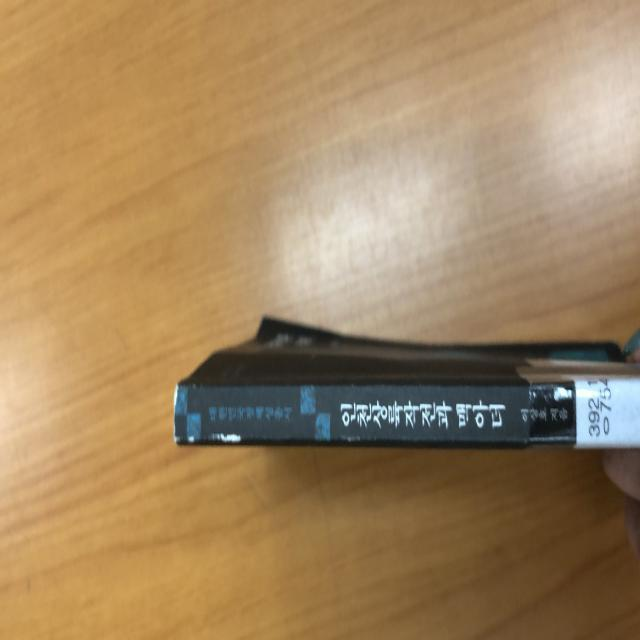Wornout: (168, 379, 186, 450), (207, 425, 244, 451)
